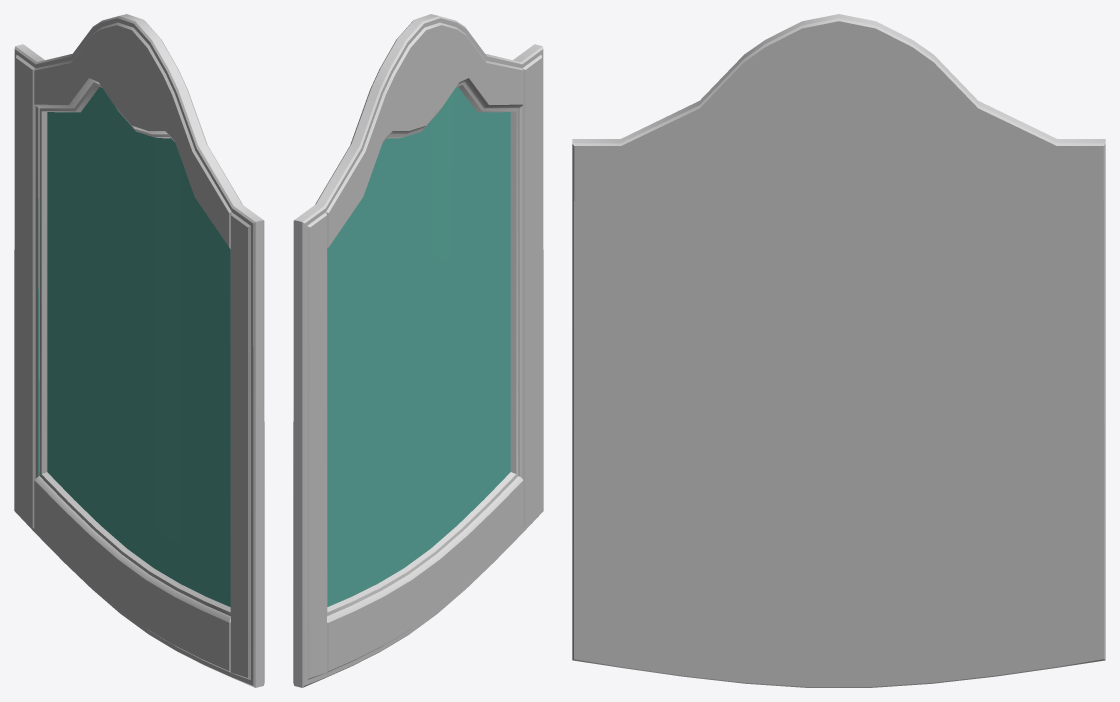
The model's file is ABCWJ102.FBX.
The picture shows the model from 3 angles, left to right: view 1: azimuth 30°, elevation 25°; view 2: azimuth 150°, elevation 25°; view 3: azimuth 270°, elevation 25°; orthographic projection. The views are drawn at different scales.
Parts seen in each view (by area): view 1: ABCWJ102; view 2: ABCWJ102; view 3: ABCWJ102.
Boxes of the visible parts, x1,y1,x2,y2 form: ABCWJ102: [14, 14, 264, 687]; ABCWJ102: [293, 14, 543, 687]; ABCWJ102: [572, 14, 1105, 687].
Bounding box in the file's own units: 2.5 × 78 × 108.
